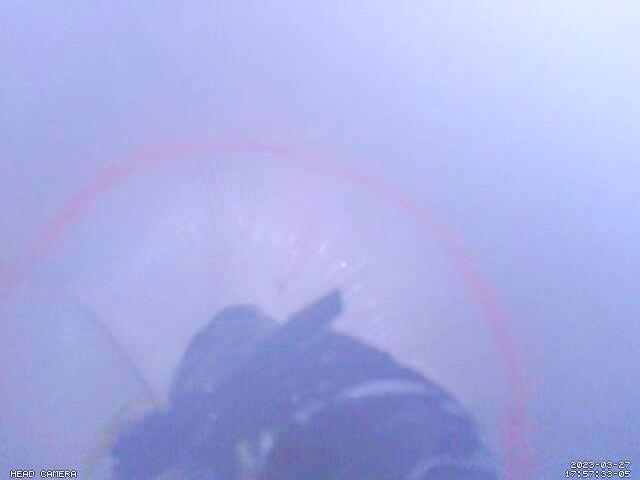head: (1, 135, 533, 480)
